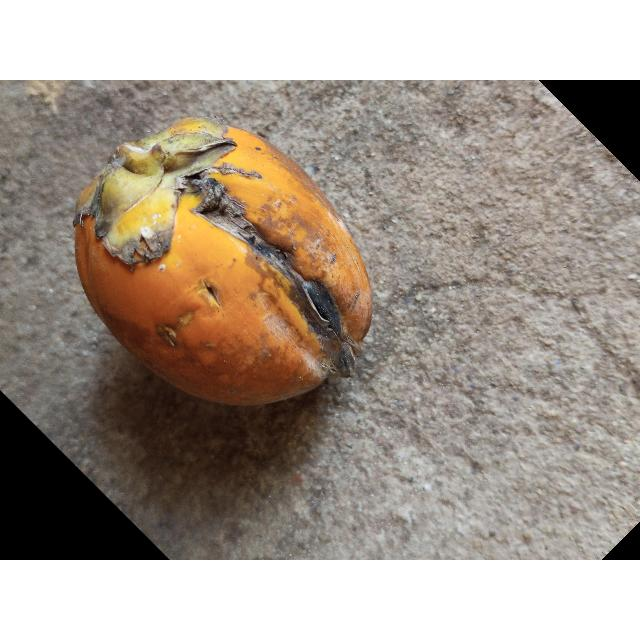damaged: (73, 119, 374, 409)
